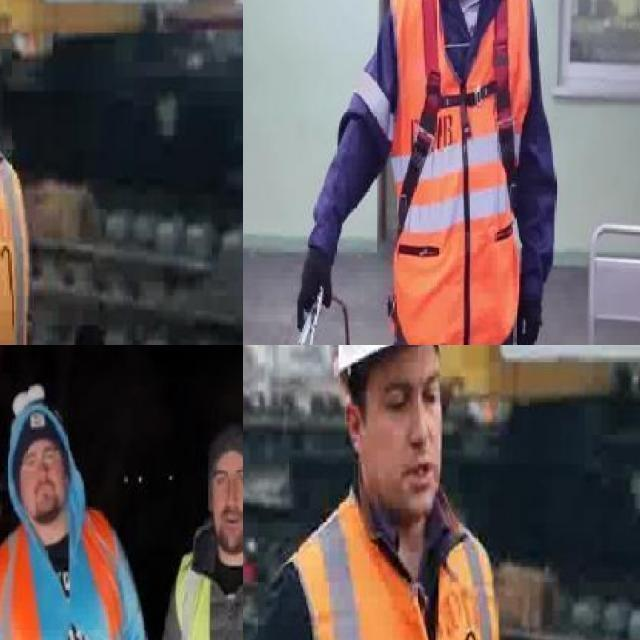apron: (294, 246, 333, 332), (516, 281, 540, 345)
